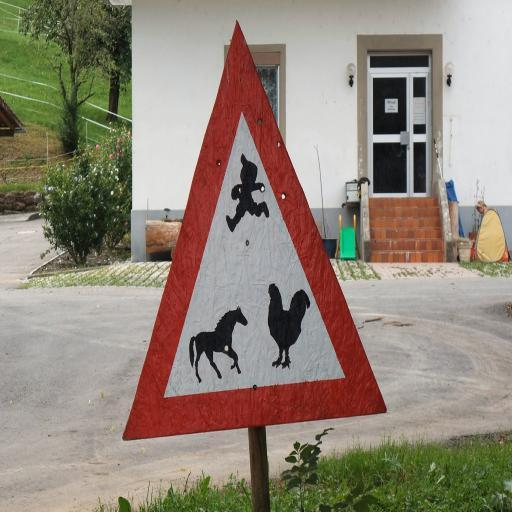horse: (188, 301, 250, 383)
